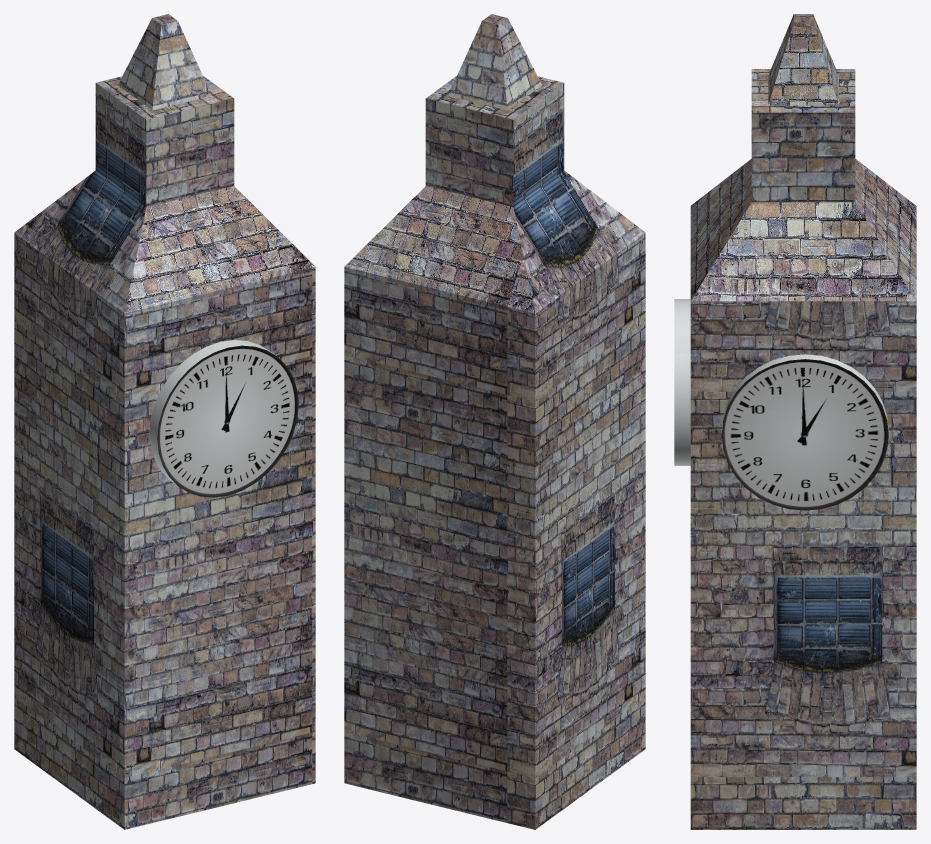
Rendered from building_07.fbx.
3 views of the same model, side by side, from view 1: azimuth 30°, elevation 25°; view 2: azimuth 150°, elevation 25°; view 3: azimuth 270°, elevation 25° (orthographic). The views are drawn at different scales.
Visible parts, largest first — view 1: Cube, Cylinder.001; view 2: Cube; view 3: Cube, Cylinder.002, Cylinder.001.
Boxes of the visible parts, x1,y1,x2,y2 form: Cube: (14,14,315,829); Cylinder.001: (149,340,298,497); Cube: (344,14,645,829); Cube: (690,14,916,829); Cylinder.002: (721,354,888,510); Cylinder.001: (674,299,690,465).
Bounding box in the file's own units: 210 × 746 × 214.
3 materials, 3 textured.
